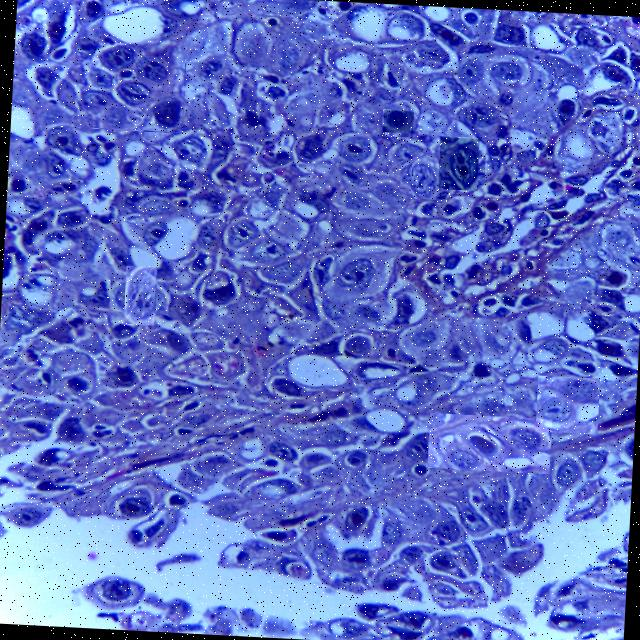Multiple Nucleol: (438, 137, 477, 189), (123, 265, 153, 323), (383, 109, 412, 131)
Nuclear Hyperchromatism: (73, 41, 182, 132), (428, 417, 550, 469), (534, 374, 600, 434), (403, 155, 443, 195)
